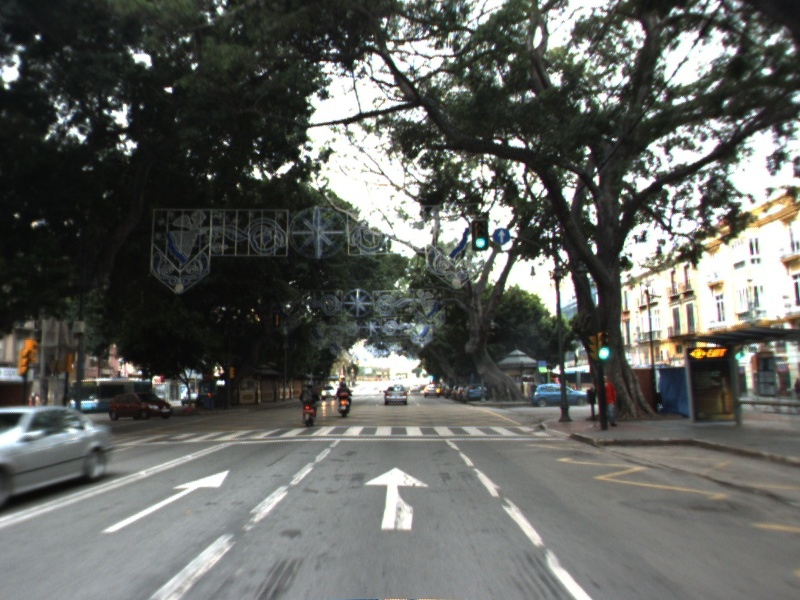STRAIGHT: (98, 467, 233, 535), (361, 463, 431, 532)
